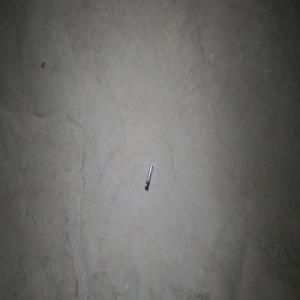Battery: (144, 164, 153, 191)
